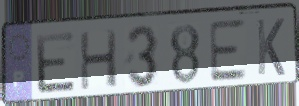3: (122, 23, 162, 91)
8: (167, 20, 202, 88)
E: (33, 30, 78, 96), (207, 17, 249, 85)
H: (78, 27, 120, 93)
K: (255, 17, 287, 78)
